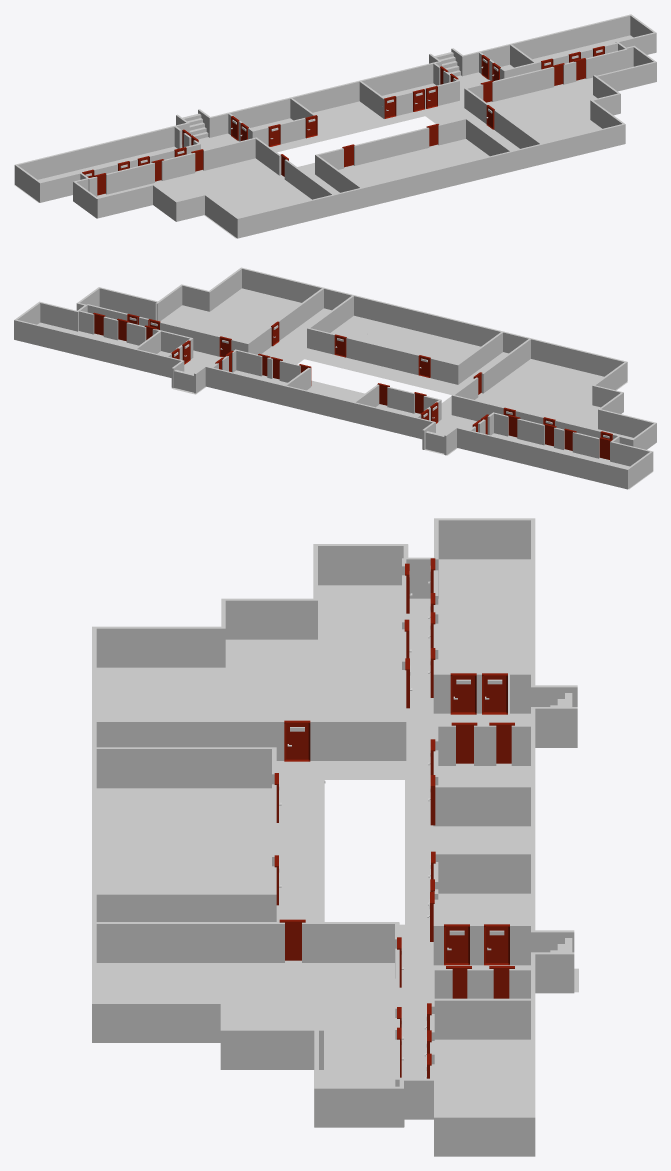
The model's file is Second_Floor.fbx.
3 views of the same model, one above another, from view 1: azimuth 30°, elevation 25°; view 2: azimuth 150°, elevation 25°; view 3: azimuth 270°, elevation 25° (orthographic). The views are drawn at different scales.
Parts seen in each view (by area): view 1: Wall2fl.003, Plane.000, Cube.023, Cube.034, Cube.032, Cube.031, Cube.026, Cube.012, Cube.015, Cube.011, Cube.020, Cube.029 (+15 smaller); view 2: Wall2fl.003, Plane.000, Cube.023, Cube.012, Cube.015, Cube.029, Cube.020, Cube.032, Cube.031, Cube.034, Cube.024, Cube.002 (+20 smaller); view 3: Plane.000, Wall2fl.003, Cube.020, Cube.029, Cube.024, Cube.015, Cube.033, Cube.009, Cube.008, Cube.030, Cube.019, Cube.013 (+7 smaller).
Part boxes in pixels (bbox=[...]): Wall2fl.003: bbox=[14, 14, 656, 238]; Plane.000: bbox=[14, 35, 654, 238]; Cube.023: bbox=[353, 127, 429, 165]; Cube.034: bbox=[492, 66, 554, 101]; Cube.032: bbox=[96, 184, 154, 218]; Cube.031: bbox=[203, 137, 257, 170]; Cube.026: bbox=[106, 162, 154, 194]; Cube.012: bbox=[596, 62, 654, 91]; Cube.015: bbox=[284, 159, 334, 199]; Cube.011: bbox=[585, 49, 627, 78]; Cube.020: bbox=[494, 109, 541, 148]; Cube.029: bbox=[315, 154, 362, 192]; Wall2fl.003: bbox=[14, 267, 653, 489]; Plane.000: bbox=[37, 288, 653, 489]; Cube.023: bbox=[346, 337, 419, 375]; Cube.012: bbox=[99, 287, 158, 320]; Cube.015: bbox=[481, 338, 530, 393]; Cube.029: bbox=[457, 331, 502, 384]; Cube.020: bbox=[275, 288, 324, 340]; Cube.032: bbox=[598, 409, 655, 437]; Cube.031: bbox=[451, 394, 505, 421]; Cube.034: bbox=[160, 322, 219, 356]; Cube.024: bbox=[307, 295, 353, 348]; Cube.002: bbox=[572, 432, 599, 458]; Plane.000: bbox=[96, 559, 578, 1127]; Wall2fl.003: bbox=[92, 518, 577, 1156]; Cube.020: bbox=[94, 922, 284, 962]; Cube.029: bbox=[94, 747, 276, 788]; Cube.024: bbox=[96, 892, 276, 921]; Cube.015: bbox=[96, 720, 286, 760]; Cube.033: bbox=[430, 998, 534, 1039]; Cube.009: bbox=[433, 785, 530, 826]; Cube.008: bbox=[435, 852, 530, 893]; Cube.030: bbox=[307, 720, 404, 760]; Cube.019: bbox=[302, 922, 399, 962]; Cube.013: bbox=[314, 1086, 403, 1127].
Bounding box in the file's own units: 6578 × 427 × 2255.
